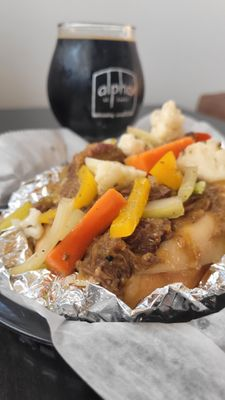pizza: (46, 21, 145, 142)
